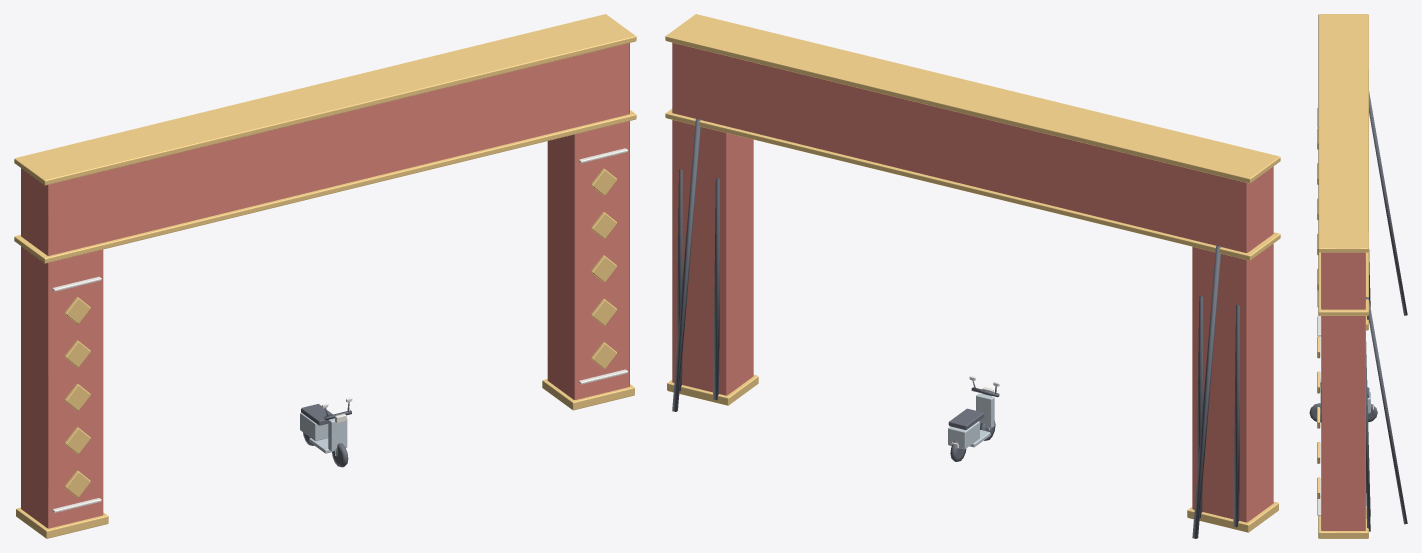
File: dadao-entrance.glb
The picture shows the model from 3 angles, left to right: view 1: azimuth 30°, elevation 25°; view 2: azimuth 150°, elevation 25°; view 3: azimuth 270°, elevation 25°; orthographic projection. The views are drawn at different scales.
Parts seen in each view (by area): view 1: portal, scooter; view 2: portal, scooter; view 3: portal, scooter.
Part boxes in pixels (box(x1,y1,x2,y2)): portal: box(14, 14, 636, 538); scooter: box(300, 397, 352, 467); portal: box(665, 14, 1280, 538); scooter: box(948, 376, 999, 461); portal: box(1317, 14, 1407, 538); scooter: box(1309, 379, 1377, 422).
Bounding box in the file's own units: 14.3 × 8.29 × 2.52.
